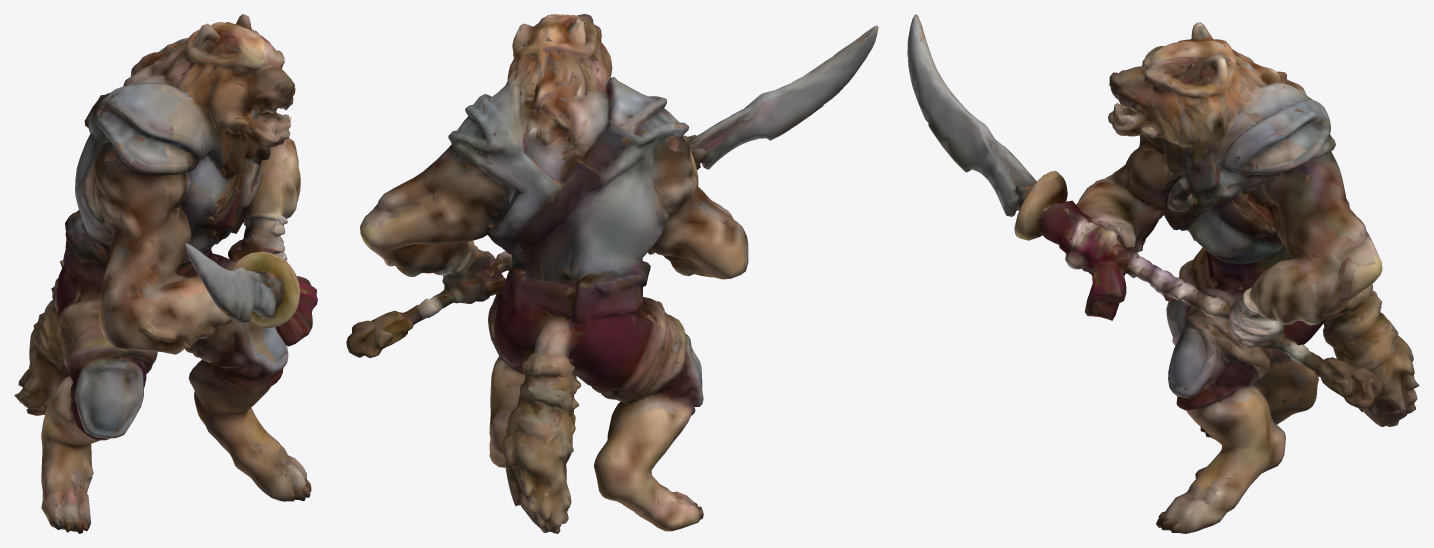
File: Ichelesi (small)_final.glb
3 renders of one model, left to right at view 1: azimuth 30°, elevation 25°; view 2: azimuth 150°, elevation 25°; view 3: azimuth 270°, elevation 25°, orthographic. The views are drawn at different scales.
Parts seen in each view (by area): view 1: Mesh1.0; view 2: Mesh1.0; view 3: Mesh1.0.
Boxes of the visible parts, x1,y1,x2,y2 form: Mesh1.0: [14, 14, 317, 533]; Mesh1.0: [346, 14, 878, 533]; Mesh1.0: [907, 14, 1419, 533].
Bounding box in the file's own units: 1.39 × 2 × 1.97.
1 material, 1 textured.
